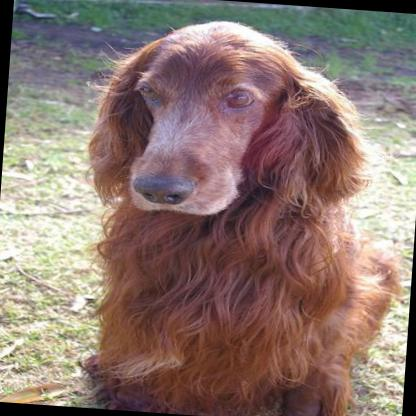Irish_setter: (63, 10, 416, 416)
